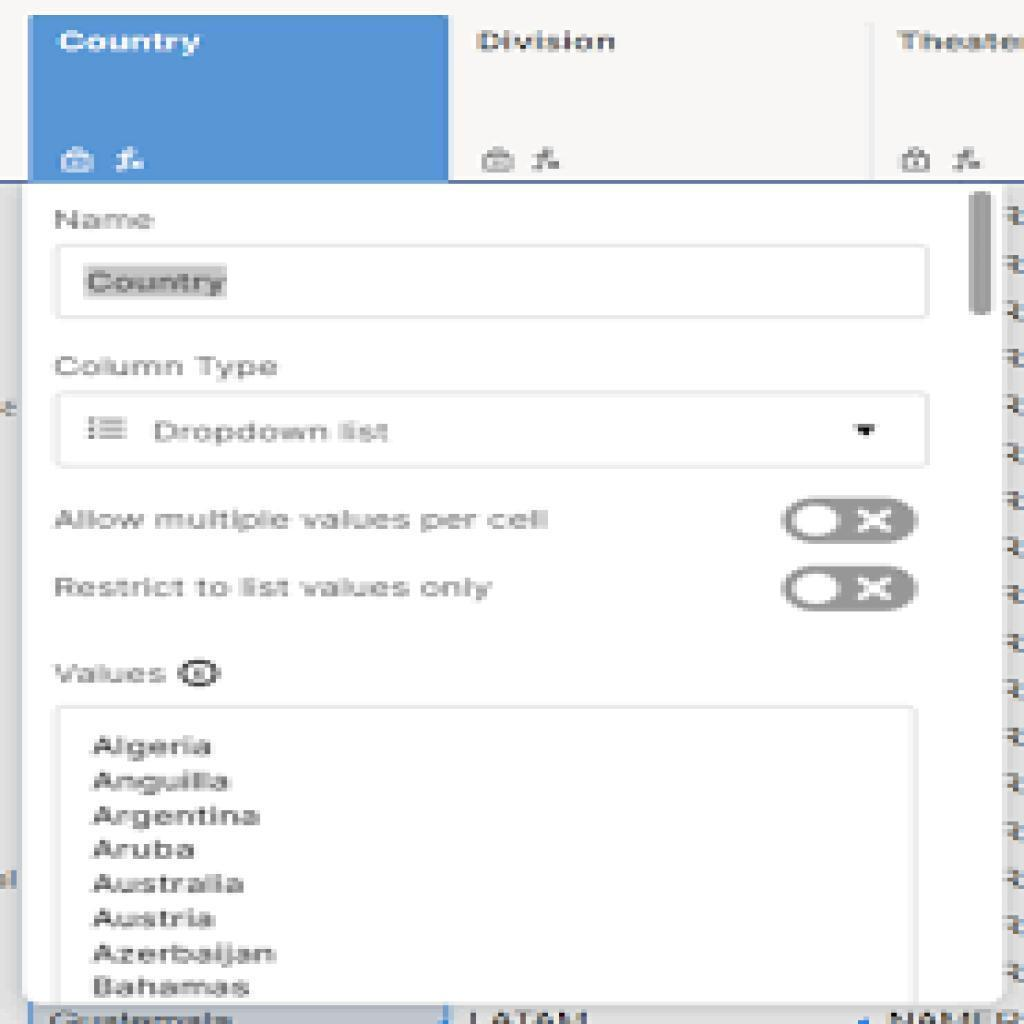dropdown: (54, 391, 933, 469)
input: (56, 244, 932, 323)
switch: (783, 568, 922, 615), (783, 498, 920, 545)
